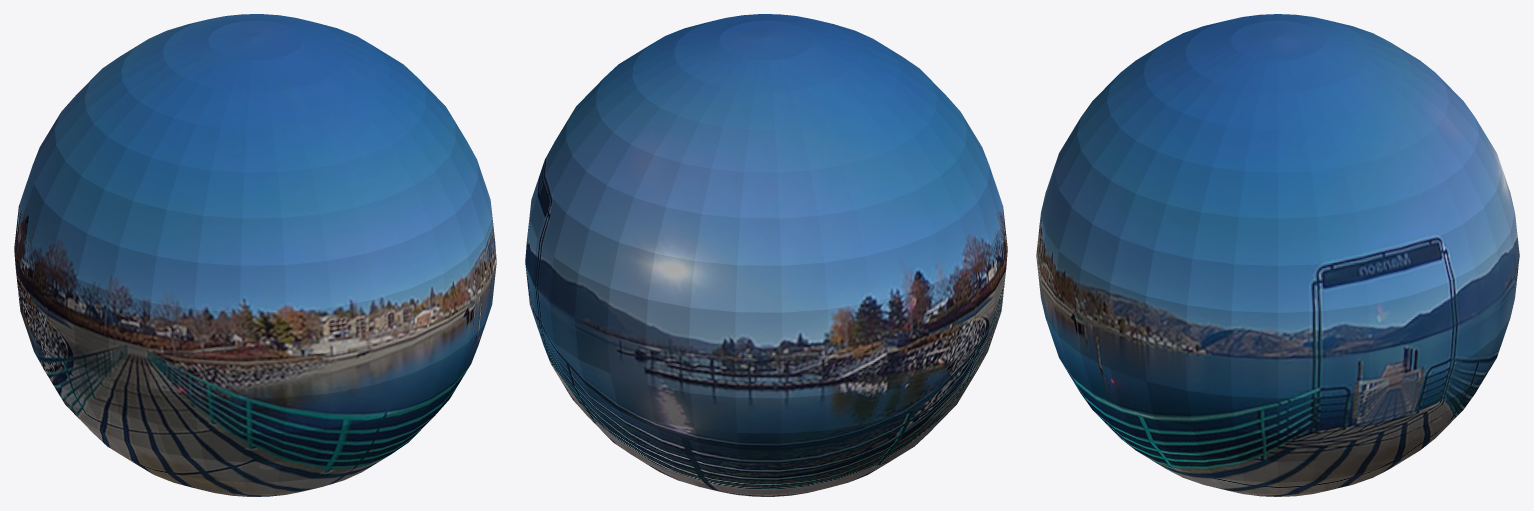
The picture shows the model from 3 angles, left to right: view 1: azimuth 30°, elevation 25°; view 2: azimuth 150°, elevation 25°; view 3: azimuth 270°, elevation 25°; orthographic projection.
Visible parts, largest first — view 1: Sphere.001; view 2: Sphere.001; view 3: Sphere.001.
Boxes of the visible parts, x1,y1,x2,y2 form: Sphere.001: (14, 14, 496, 496); Sphere.001: (525, 14, 1007, 496); Sphere.001: (1036, 14, 1519, 496).
Bounding box in the file's own units: 14.61 × 14.61 × 14.61.
Materials: 7 (3 with a texture image).
